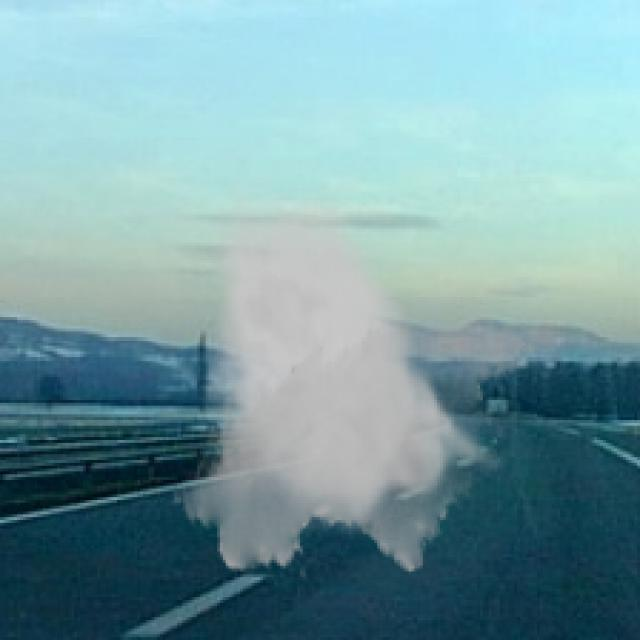smoke: (172, 183, 537, 583)
